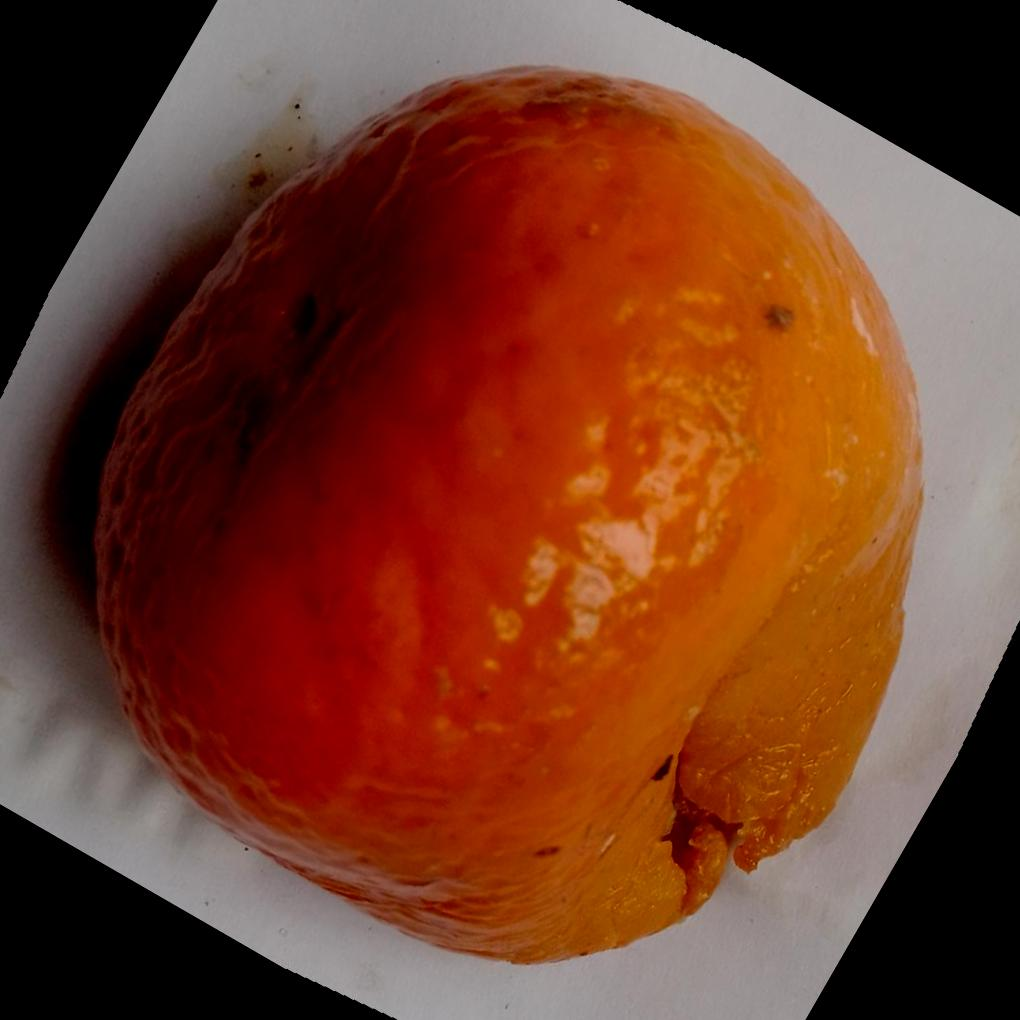FreshOrange: (90, 59, 927, 964)
